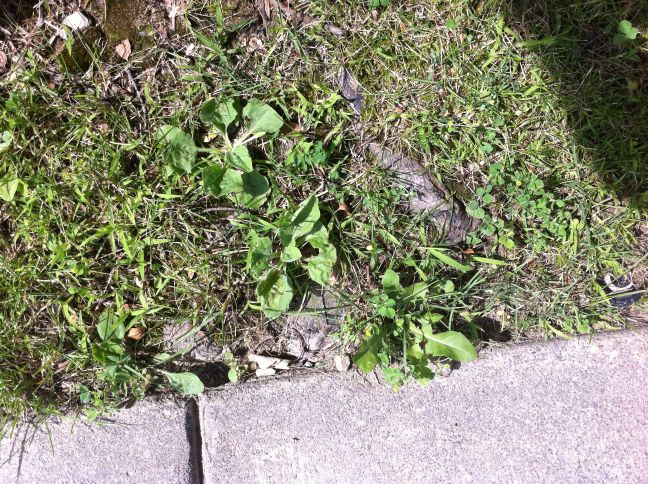weed1: (225, 188, 342, 321), (144, 90, 280, 202)
